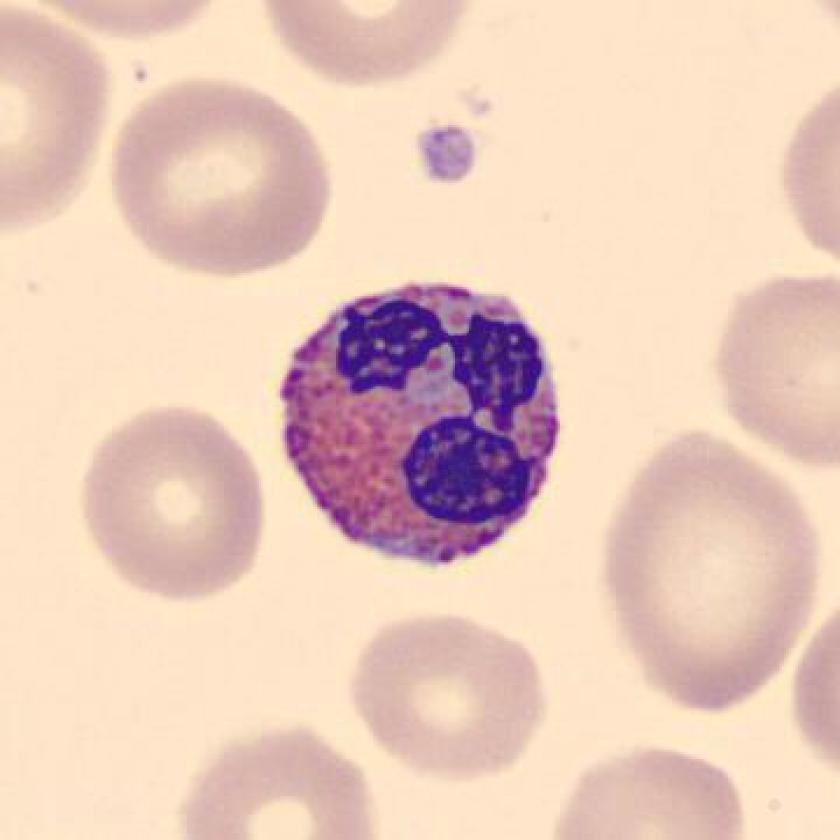eosinophil: (265, 272, 580, 582)
